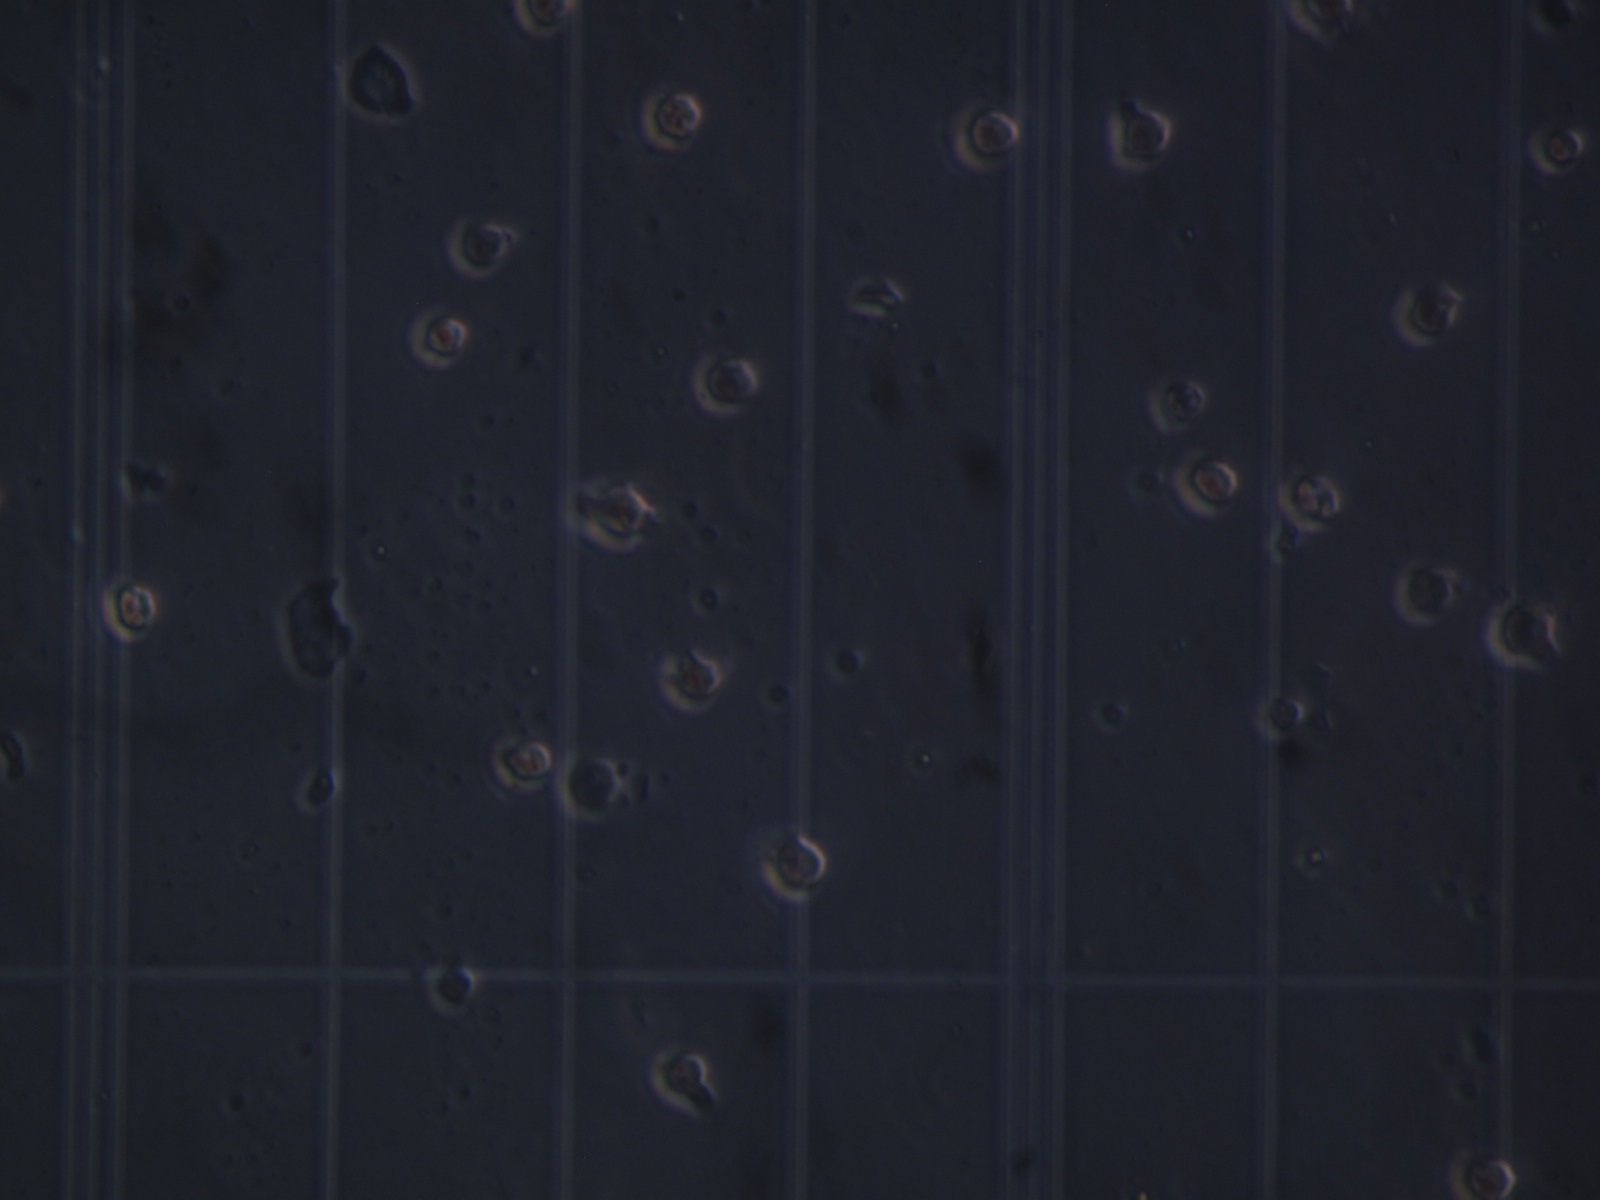hemo: (947, 95, 1026, 171), (578, 473, 653, 553), (687, 344, 760, 418), (760, 824, 828, 904), (556, 747, 627, 818), (1391, 279, 1463, 349), (1172, 447, 1238, 519), (1487, 600, 1558, 667), (1391, 555, 1454, 626), (443, 213, 511, 279), (1104, 107, 1173, 171), (639, 83, 702, 153), (488, 731, 554, 795), (661, 648, 724, 716), (1280, 464, 1342, 533), (101, 571, 157, 643), (406, 306, 467, 369), (1446, 1148, 1517, 1200), (1146, 376, 1206, 434), (1288, 1, 1356, 45), (1528, 121, 1585, 174), (1254, 688, 1306, 742), (655, 1045, 708, 1097), (430, 961, 477, 1012), (508, 1, 577, 37), (844, 279, 903, 318)
